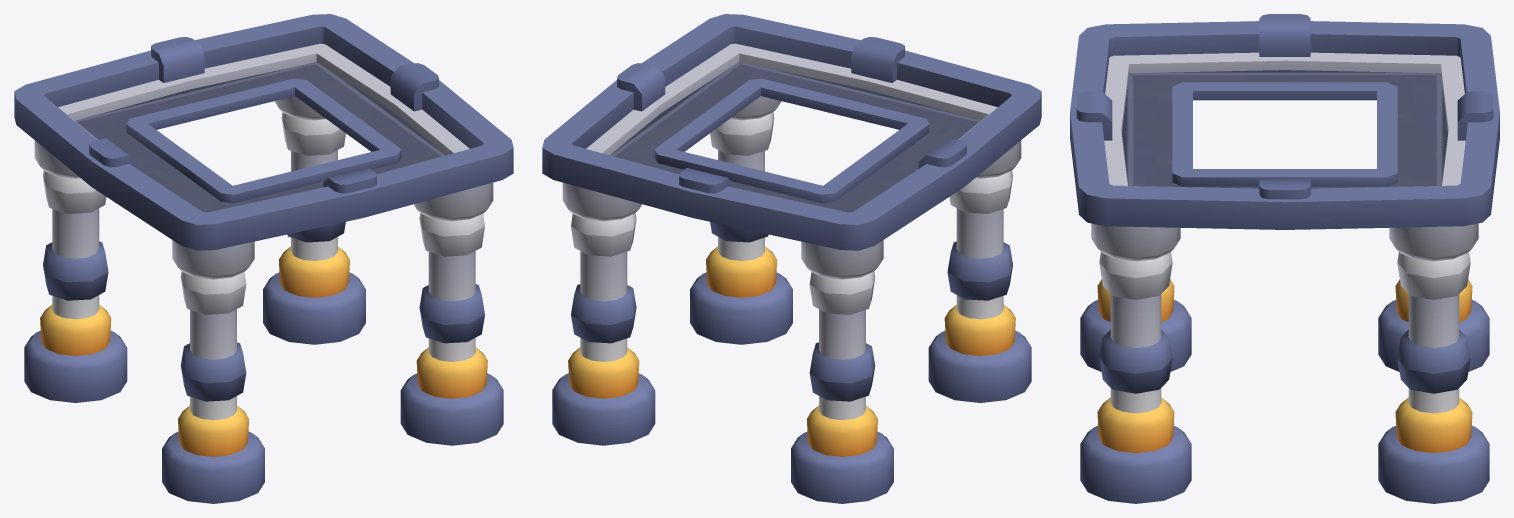
Rendered from template-floor-layer-hole.glb.
3 views of the same model, side by side, from view 1: azimuth 30°, elevation 25°; view 2: azimuth 150°, elevation 25°; view 3: azimuth 270°, elevation 25° (orthographic). The views are drawn at different scales.
Visible parts, largest first — view 1: template-floor-layer-hole; view 2: template-floor-layer-hole; view 3: template-floor-layer-hole.
Boxes of the visible parts, x1,y1,x2,y2 form: template-floor-layer-hole: [14, 14, 513, 503]; template-floor-layer-hole: [542, 14, 1041, 503]; template-floor-layer-hole: [1070, 14, 1499, 503].
Bounding box in the file's own units: 4.2 × 3.4 × 4.2.
1 material, 1 textured.
